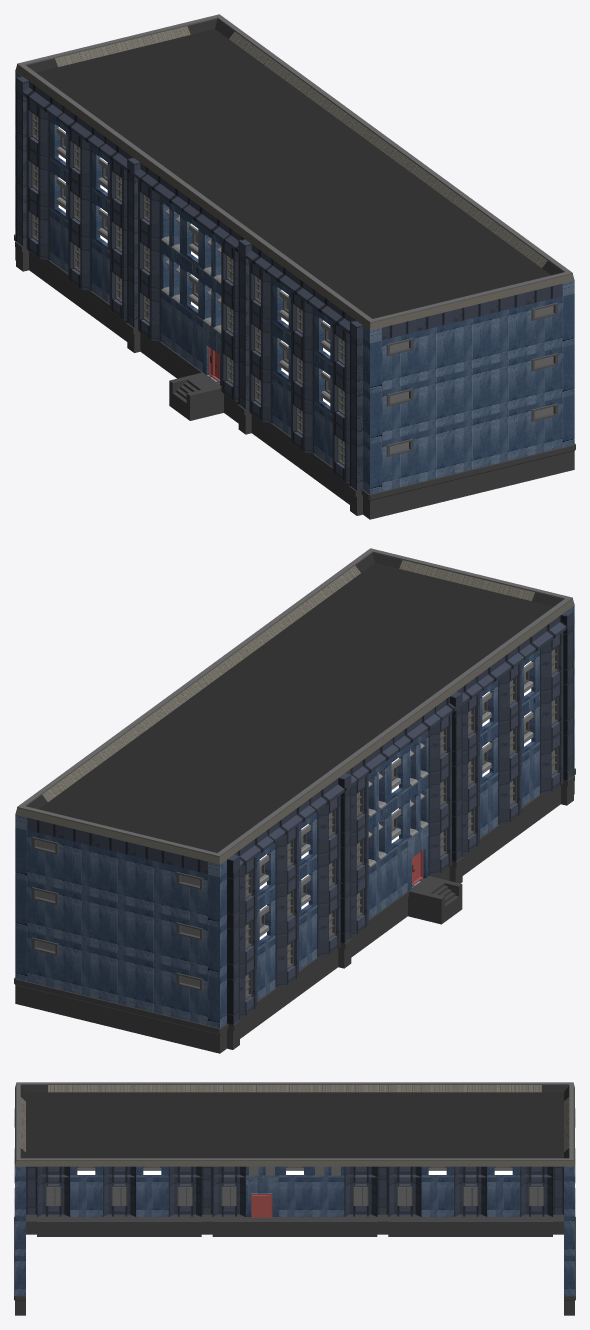
File: BLOCK4.2.fbx
3 renders of one model, top to bottom at view 1: azimuth 30°, elevation 25°; view 2: azimuth 150°, elevation 25°; view 3: azimuth 270°, elevation 25°, orthographic. The views are drawn at different scales.
Visible parts, largest first — view 1: Plane.559, Plane.046, Plane.459, Plane.627, Plane.454, Plane.552, Plane.554, Plane.555, Plane.613, Plane.629, Plane.631, Plane.445 (+113 smaller); view 2: Plane.559, Plane.046, Plane.492, Plane.619, Plane.490, Plane.478, Plane.480, Plane.481, Plane.482, Plane.621, Plane.623, Plane.484 (+113 smaller); view 3: Plane.559, Plane.294, Plane.299, Plane.293, Plane.347, Plane.290, Plane.348, Plane.349, Plane.351, Plane.296, Plane.297, Plane.461 (+87 smaller).
Boxes of the visible parts, left/top/right/bottom form: Plane.559: left=72, top=45, right=517, bottom=306; Plane.046: left=169, top=372, right=223, bottom=420; Plane.459: left=490, top=406, right=526, bottom=464; Plane.627: left=418, top=323, right=454, bottom=381; Plane.454: left=526, top=397, right=562, bottom=455; Plane.552: left=418, top=373, right=454, bottom=432; Plane.554: left=454, top=364, right=490, bottom=423; Plane.555: left=526, top=346, right=562, bottom=405; Plane.613: left=490, top=355, right=526, bottom=414; Plane.629: left=454, top=314, right=490, bottom=372; Plane.631: left=490, top=305, right=526, bottom=364; Plane.445: left=418, top=423, right=454, bottom=482; Plane.559: left=72, top=579, right=517, bottom=840; Plane.046: left=408, top=876, right=462, bottom=924; Plane.492: left=63, top=940, right=99, bottom=998; Plane.619: left=135, top=857, right=171, bottom=915; Plane.490: left=27, top=931, right=63, bottom=989; Plane.478: left=135, top=907, right=171, bottom=966; Plane.480: left=99, top=898, right=135, bottom=957; Plane.481: left=27, top=880, right=63, bottom=939; Plane.482: left=63, top=889, right=99, bottom=948; Plane.621: left=99, top=848, right=135, bottom=906; Plane.623: left=63, top=839, right=99, bottom=898; Plane.484: left=135, top=957, right=171, bottom=1016; Plane.559: left=48, top=1101, right=541, bottom=1152; Plane.294: left=344, top=1175, right=377, bottom=1216; Plane.299: left=212, top=1175, right=245, bottom=1216; Plane.293: left=388, top=1175, right=421, bottom=1216; Plane.347: left=168, top=1175, right=201, bottom=1216; Plane.290: left=520, top=1175, right=552, bottom=1216; Plane.348: left=37, top=1175, right=69, bottom=1216; Plane.349: left=454, top=1175, right=486, bottom=1216; Plane.351: left=103, top=1175, right=135, bottom=1216; Plane.296: left=311, top=1177, right=344, bottom=1216; Plane.297: left=278, top=1177, right=311, bottom=1216; Plane.461: left=487, top=1177, right=519, bottom=1216.
Bounding box in the file's own units: 1990 × 1560 × 5120.
